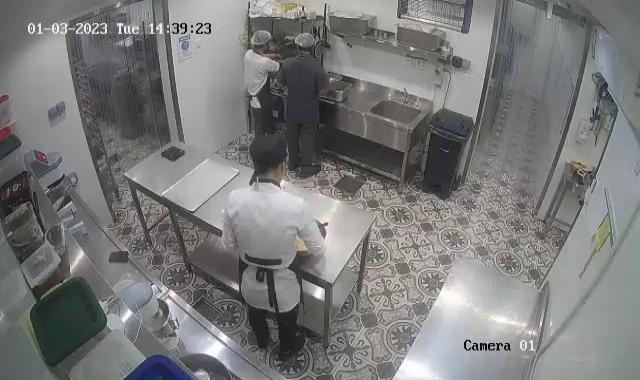hairnet: (247, 27, 273, 53), (294, 27, 316, 54)
no_hairnet: (245, 133, 290, 180)
